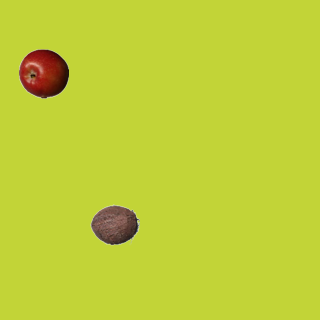Apple Braeburn: (18, 48, 68, 98)
Cocos: (89, 199, 139, 249)
